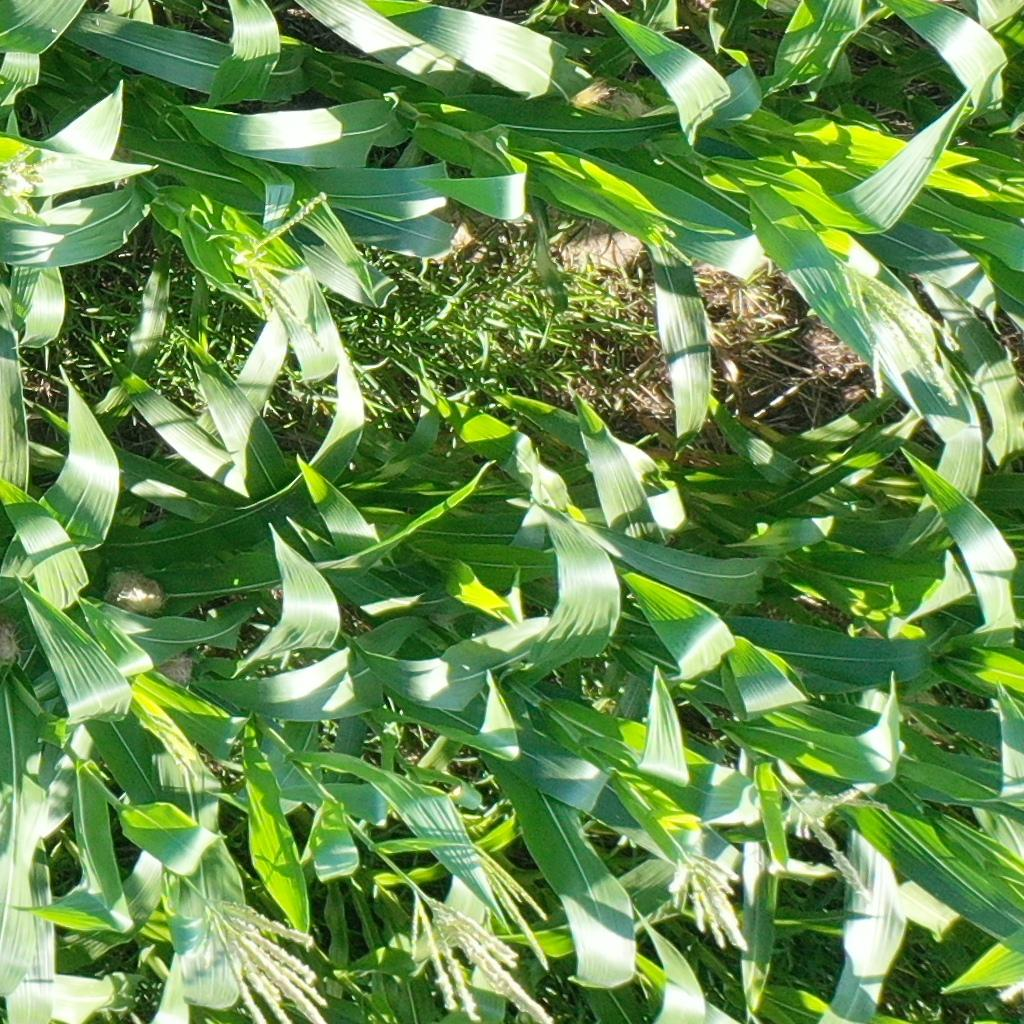Tassel: (824, 256, 964, 408), (401, 889, 556, 1024), (217, 185, 340, 354), (195, 889, 334, 1024), (776, 780, 873, 908), (471, 844, 554, 971), (660, 843, 753, 952), (1, 141, 76, 223), (134, 706, 205, 785), (653, 218, 689, 268)
